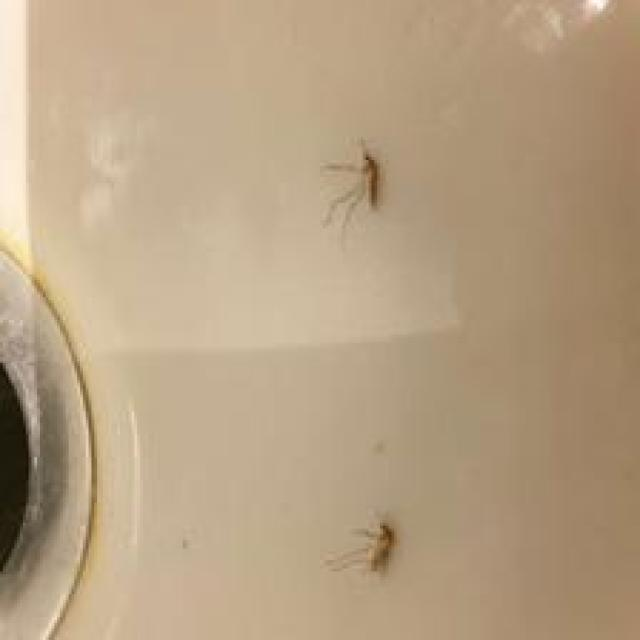Culex: (320, 136, 380, 233)
